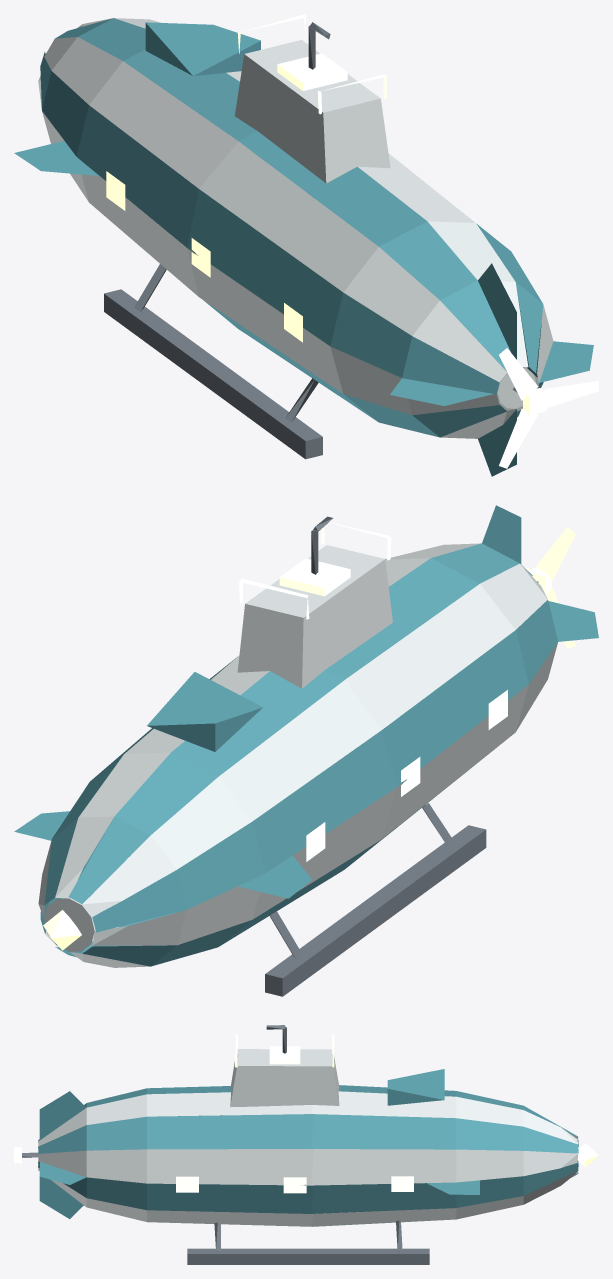
Rendered from 67-Vehiculos_perla_ancestral.glb.
The picture shows the model from 3 angles, top to bottom: view 1: azimuth 30°, elevation 25°; view 2: azimuth 150°, elevation 25°; view 3: azimuth 270°, elevation 25°; orthographic projection. The views are drawn at different scales.
Visible parts, largest first — view 1: SM_Perla_M_Perla_Casco, SM_Perla_M_Perla_Acento, SM_Perla_M_Perla_MetalOscuro, SM_Perla_M_Perla_Cristal; view 2: SM_Perla_M_Perla_Casco, SM_Perla_M_Perla_Acento, SM_Perla_M_Perla_MetalOscuro, SM_Perla_M_Perla_Cristal; view 3: SM_Perla_M_Perla_Casco, SM_Perla_M_Perla_Acento, SM_Perla_M_Perla_MetalOscuro, SM_Perla_M_Perla_Cristal.
Boxes of the visible parts, left/top/right/bottom form: SM_Perla_M_Perla_Casco: left=38, top=18, right=553, bottom=438; SM_Perla_M_Perla_Acento: left=14, top=18, right=593, bottom=476; SM_Perla_M_Perla_MetalOscuro: left=104, top=22, right=517, bottom=459; SM_Perla_M_Perla_Cristal: left=106, top=14, right=598, bottom=468; SM_Perla_M_Perla_Casco: left=38, top=543, right=557, bottom=967; SM_Perla_M_Perla_Acento: left=14, top=505, right=598, bottom=966; SM_Perla_M_Perla_MetalOscuro: left=265, top=516, right=538, bottom=996; SM_Perla_M_Perla_Cristal: left=43, top=520, right=575, bottom=950; SM_Perla_M_Perla_Casco: left=38, top=1049, right=578, bottom=1226; SM_Perla_M_Perla_Acento: left=38, top=1069, right=578, bottom=1226; SM_Perla_M_Perla_MetalOscuro: left=22, top=1025, right=429, bottom=1264; SM_Perla_M_Perla_Cristal: left=14, top=1034, right=598, bottom=1193.
Bounding box in the file's own units: 2.81 × 3.51 × 8.7.
